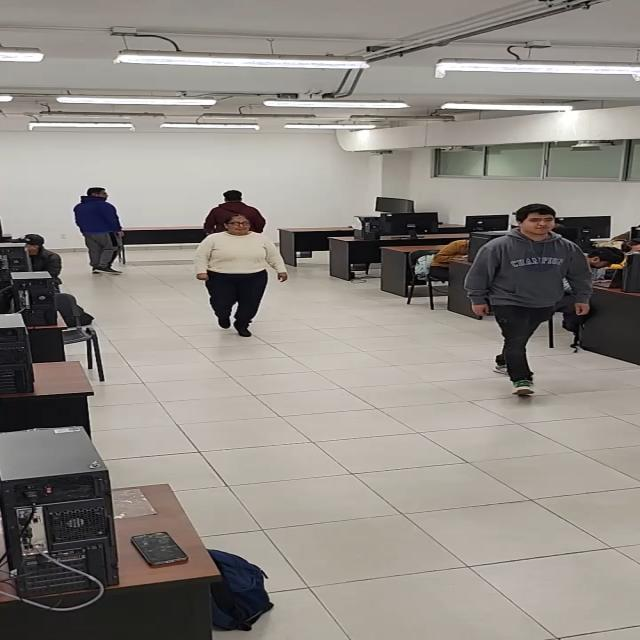Persona: (470, 202, 590, 395), (197, 215, 283, 337), (76, 187, 128, 276), (211, 190, 270, 234)
